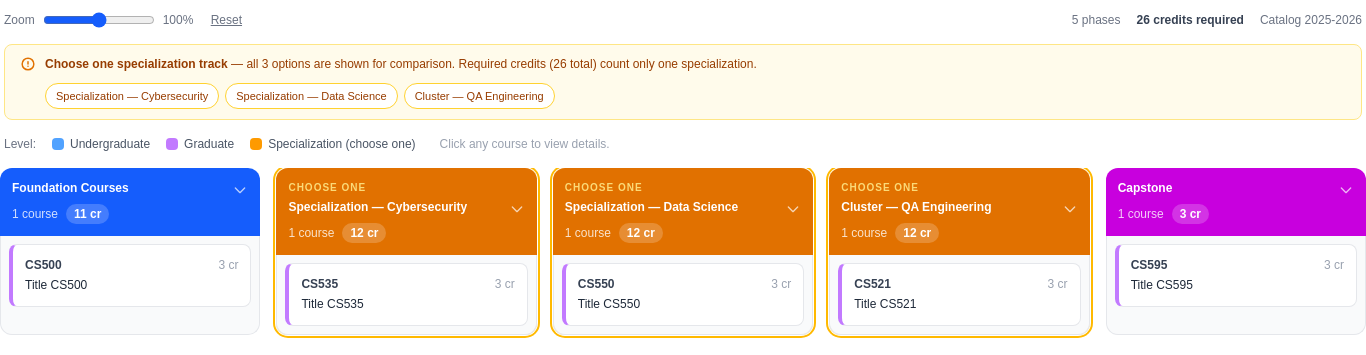
Test: RoadmapCanvas specialization tracks › hides the competing tracks once one is chosen
Click the button "Specialization — Data Science".
click(311, 96)  # box [225, 82, 398, 109]
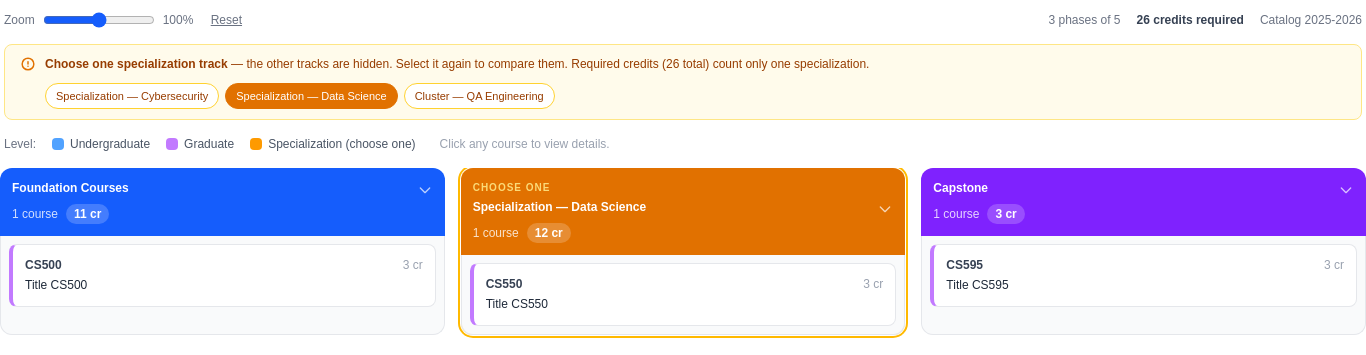
Expected: the text "CS550" is shown, [486, 276, 522, 292]
Expected: the link "CS535" is gone
Expected: the link "CS521" is gone
